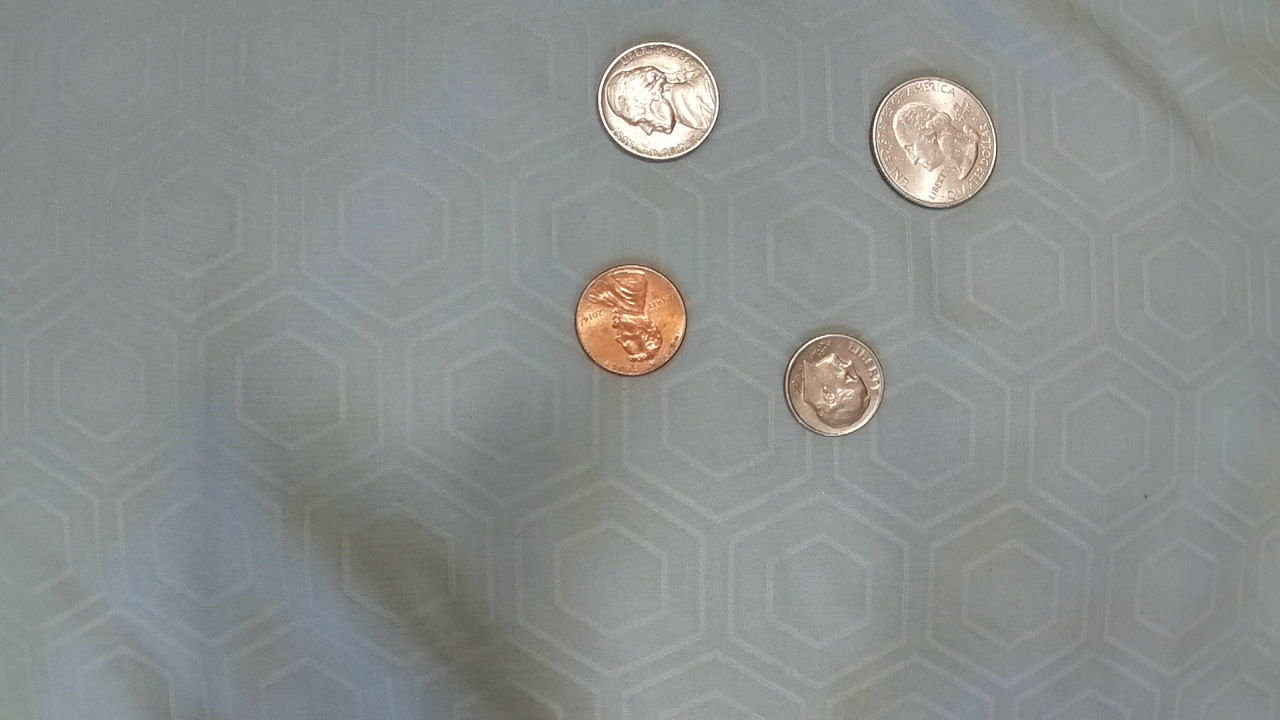dime: (781, 330, 887, 440)
nickel: (596, 40, 724, 164)
penny: (572, 259, 690, 379)
quarter: (869, 72, 997, 210)
